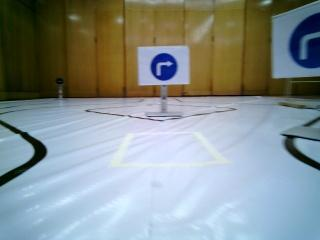right: (142, 50, 187, 84)
